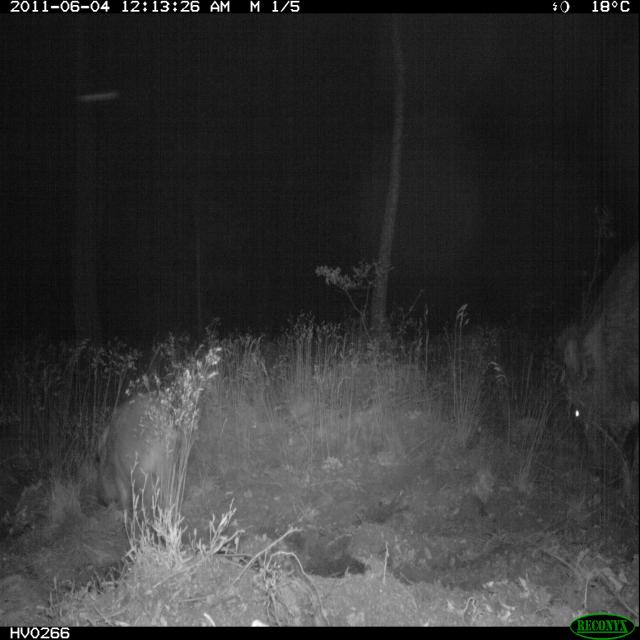boar: (543, 217, 640, 521), (78, 376, 200, 556)
